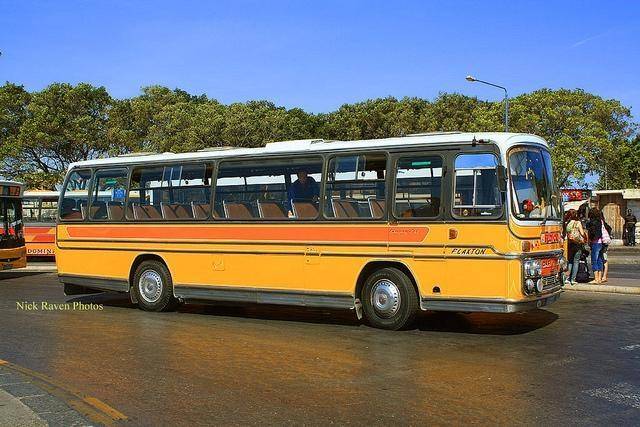bus: (56, 130, 572, 330), (20, 190, 58, 263), (1, 179, 27, 272), (336, 130, 518, 143)
